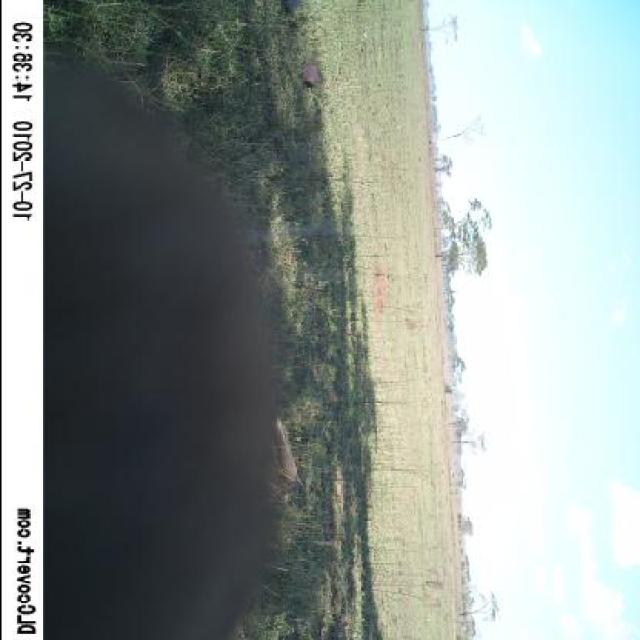Lion: (49, 226, 248, 583)
